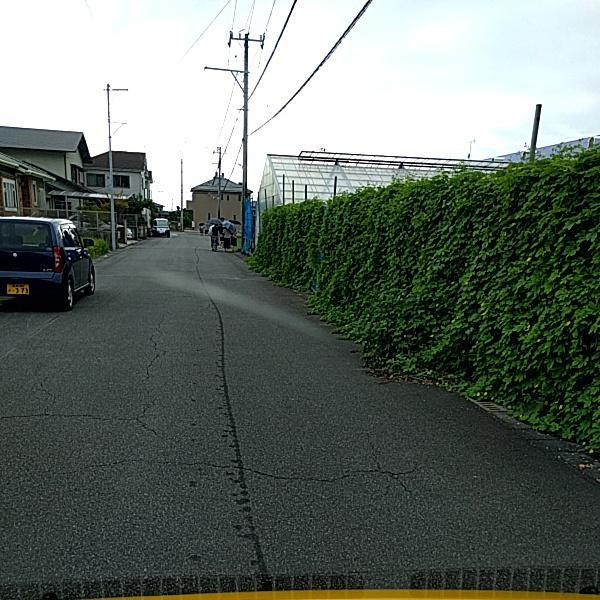D00: (358, 429, 424, 499), (140, 309, 165, 414)
D10: (129, 454, 431, 480), (1, 405, 160, 433)
